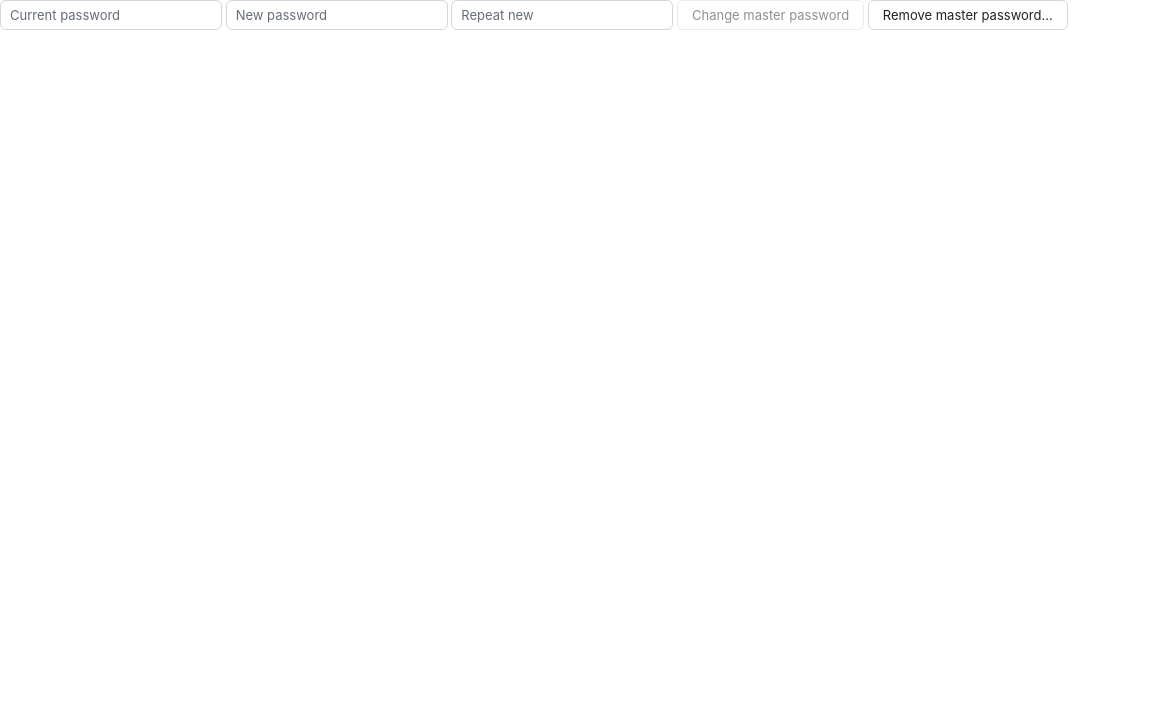
it: master password settings › closes only the confirmation on Escape, not the settings around it
The image size is (1152, 720).
Click the button "Remove master password…".
click(968, 15)  # box [868,0,1068,30]
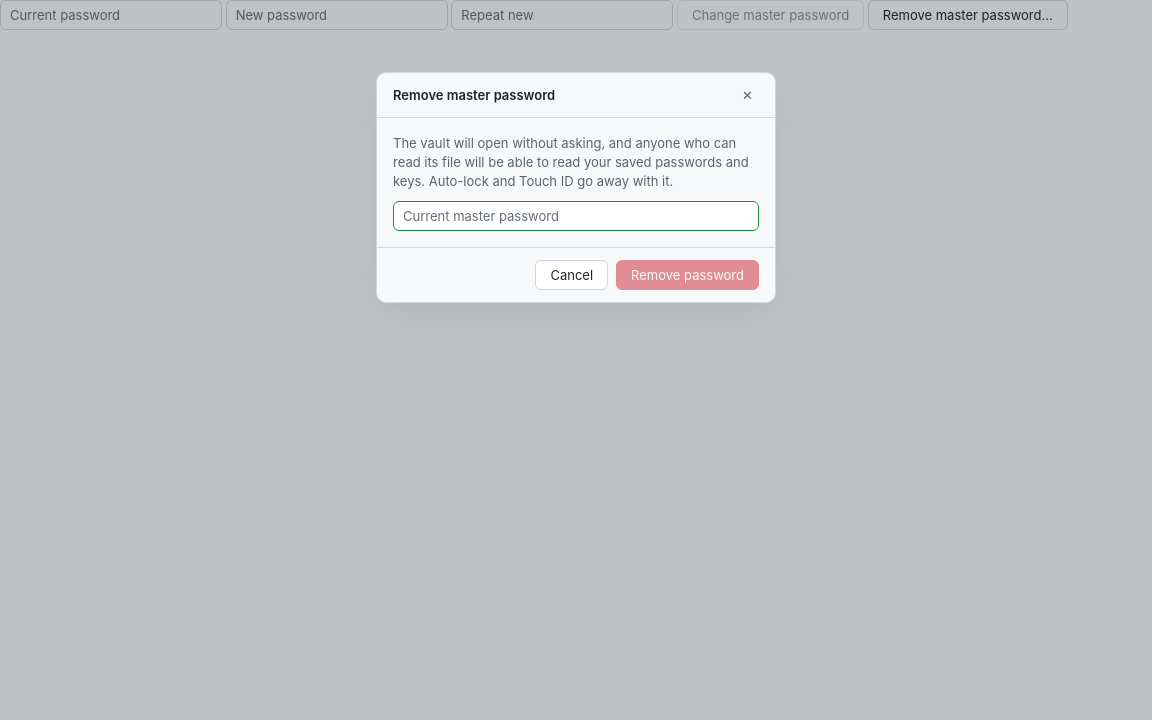
Press Escape
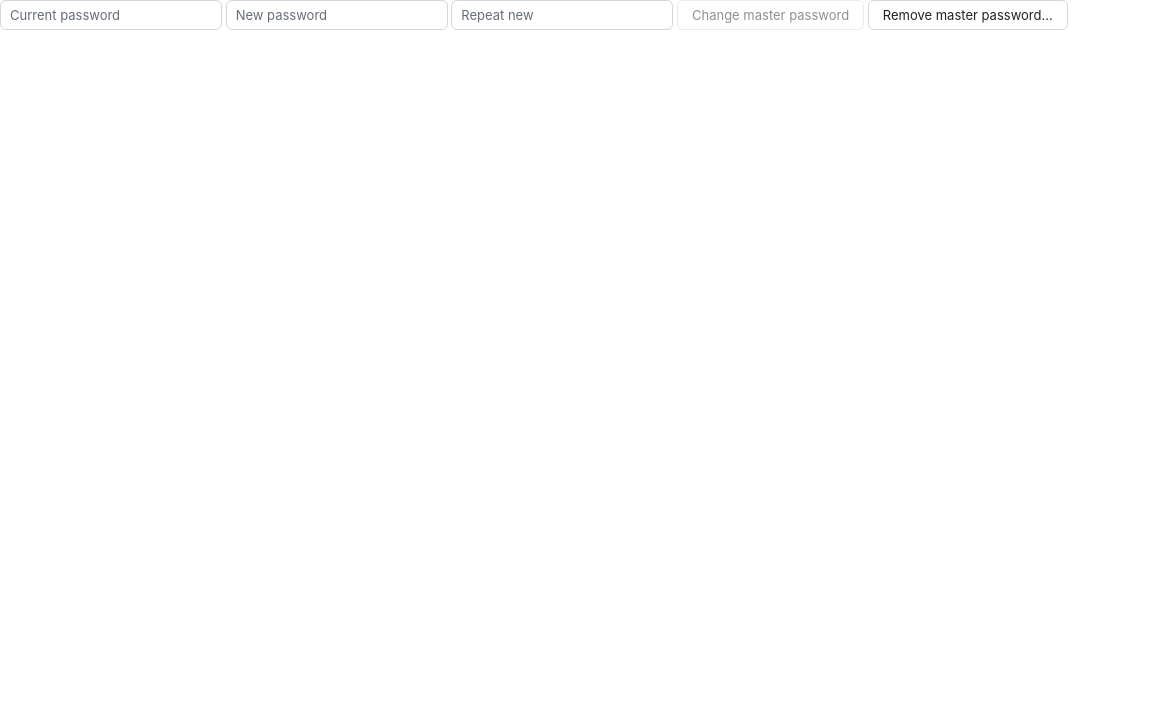
Result: the dialog is gone
